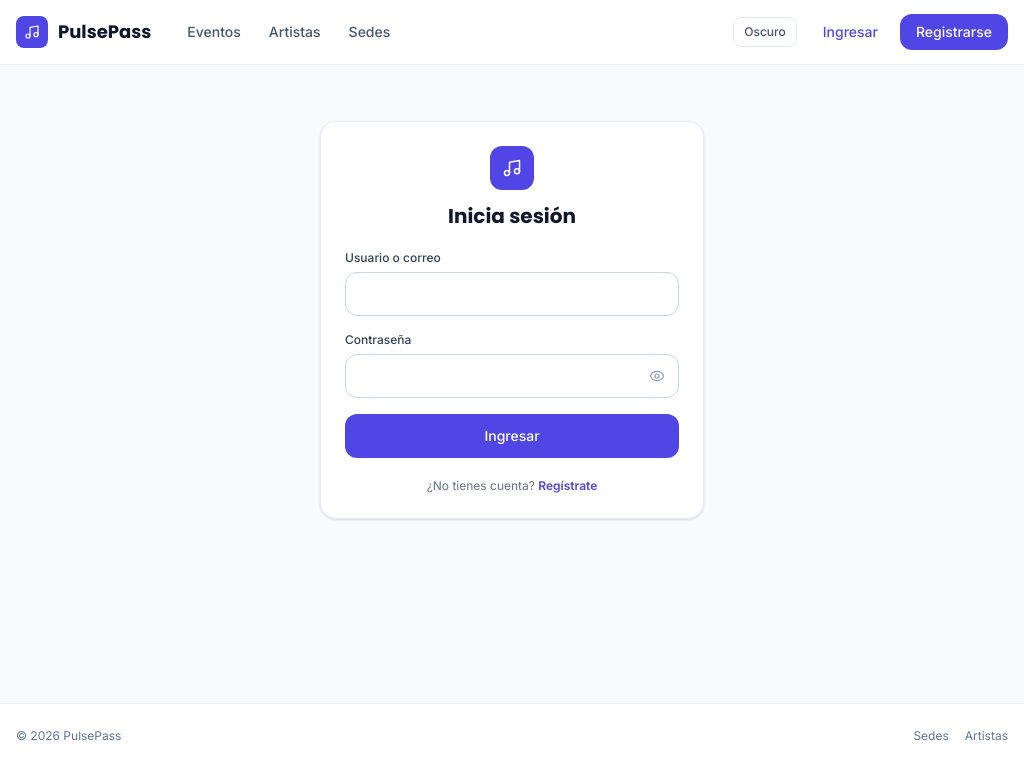
Test case: 21.2 Autenticación y guardas (TEST-FE-AUTH-*) › TEST-FE-AUTH-003: login sin campos muestra errores y realiza 0 peticiones
Step 1. Click the button "Ingresar" → [512, 436], box [345, 414, 679, 458]
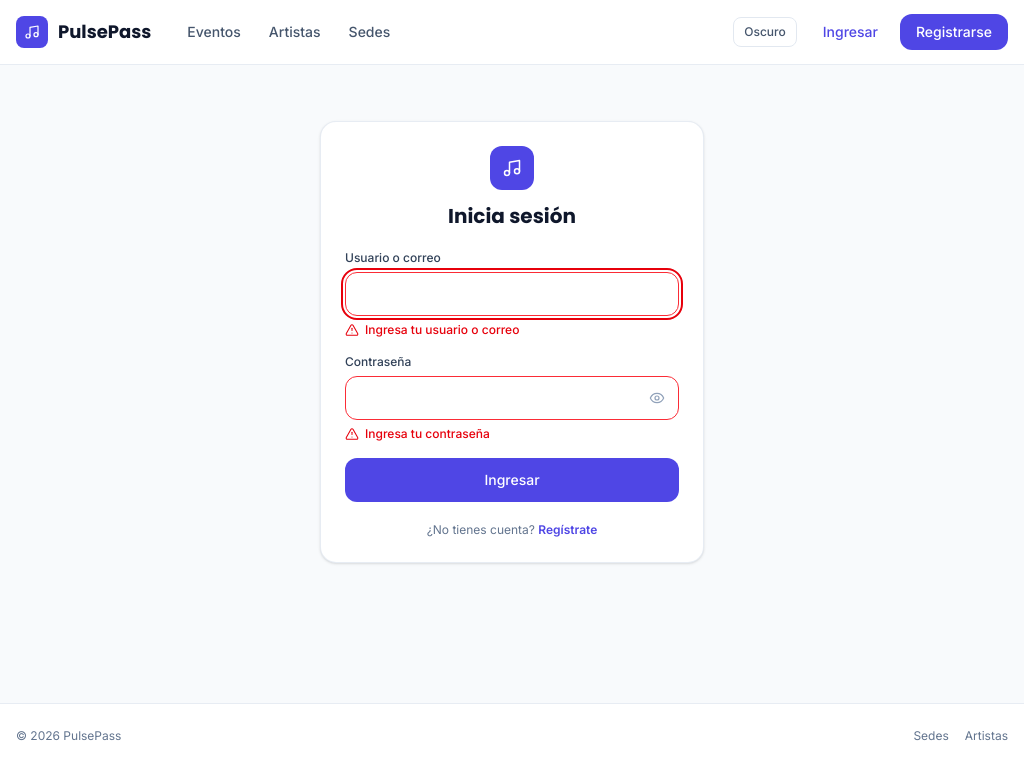
Result: the text "Ingresa tu usuario o correo" is shown at [365, 322, 519, 338]
Result: the text "Ingresa tu contraseña" is shown at [365, 426, 490, 442]
